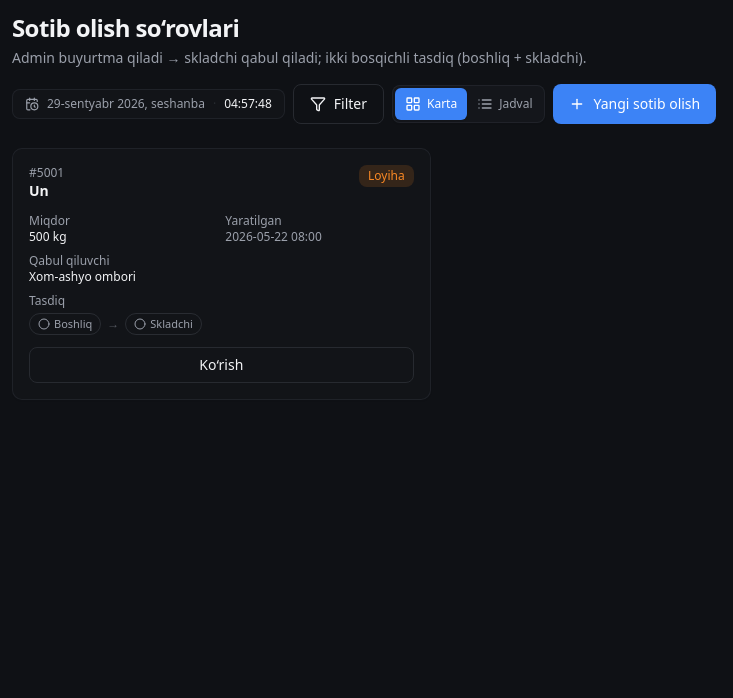
Test case: RBAC matrix — raw_warehouse_manager › sees the keeper-step approve for a PO targeting its warehouse
Expected: the text "Un" is shown, [29, 181, 49, 200]
Click the button "Ko‘rish". click: (221, 365)
box: [29, 347, 414, 383]
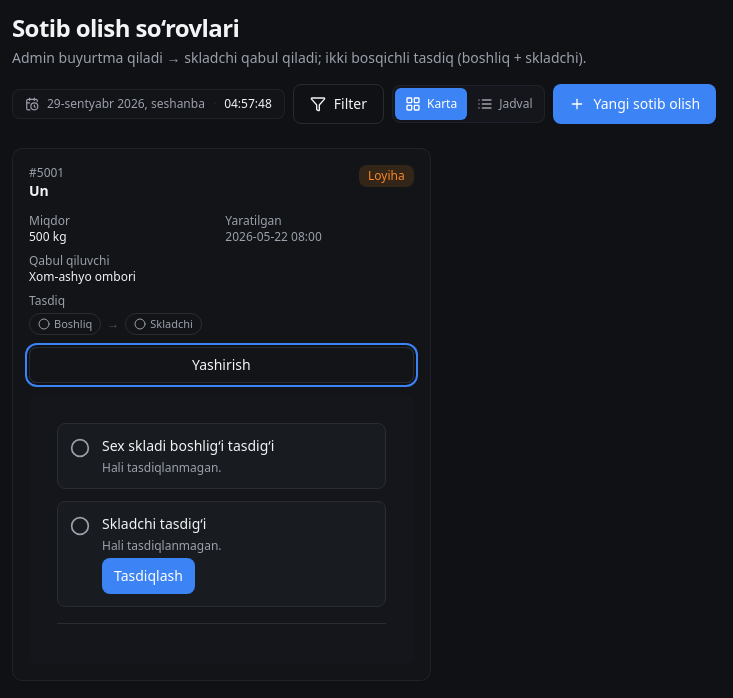
Expected: the button with aria-label "tasdiqlash (skladchi)" is shown, [102, 558, 195, 594]
